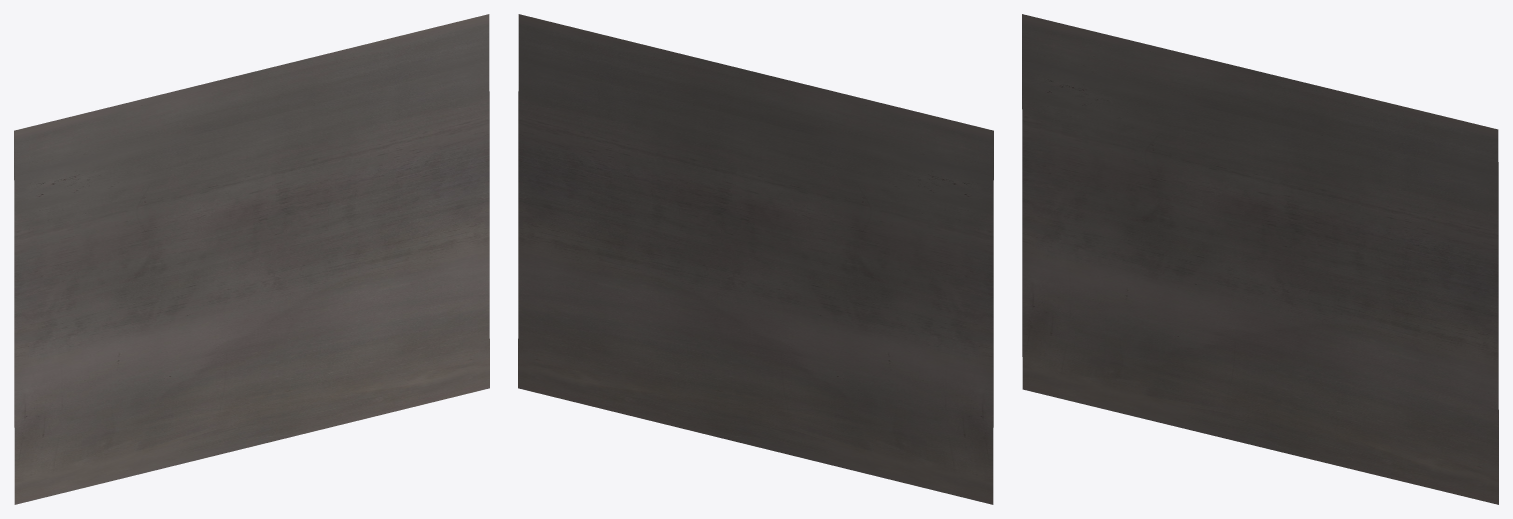
The model's file is flAagg.glb.
3 renders of one model, left to right at view 1: azimuth 30°, elevation 25°; view 2: azimuth 150°, elevation 25°; view 3: azimuth 330°, elevation 25°, orthographic.
Parts seen in each view (by area): view 1: IMG_5483; view 2: IMG_5483; view 3: IMG_5483.
Boxes of the visible parts, box(x1,y1,x2,y2) form: IMG_5483: box(14, 14, 489, 504); IMG_5483: box(518, 14, 993, 504); IMG_5483: box(1022, 14, 1498, 504).
Size of the model in its own units: 1 by 0.7542 by 1.12e-07.
Materials: 1 (1 with a texture image).
